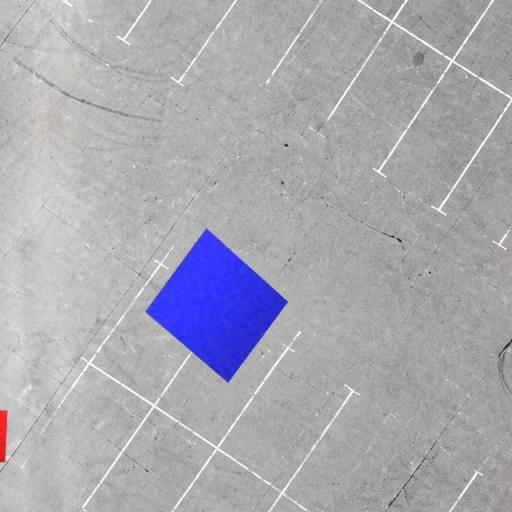BLUE_SQUARE: (145, 228, 289, 384)
